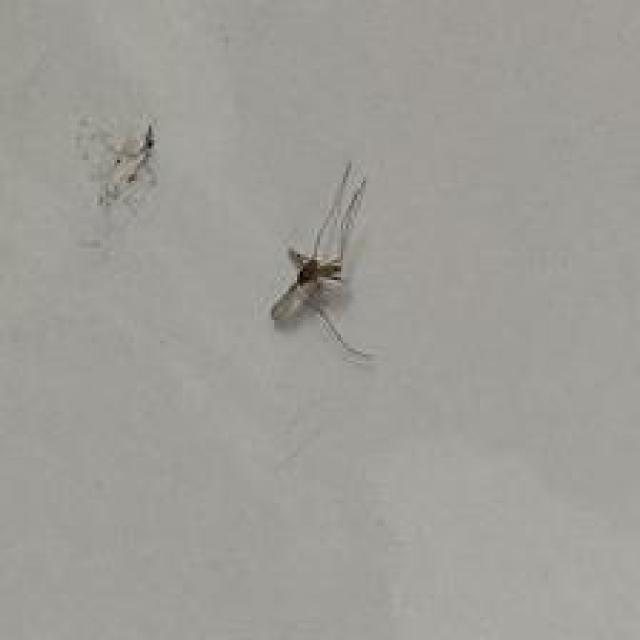Culex: (269, 160, 377, 363)
